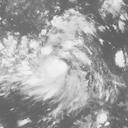cyclone: (19, 39, 92, 102)
